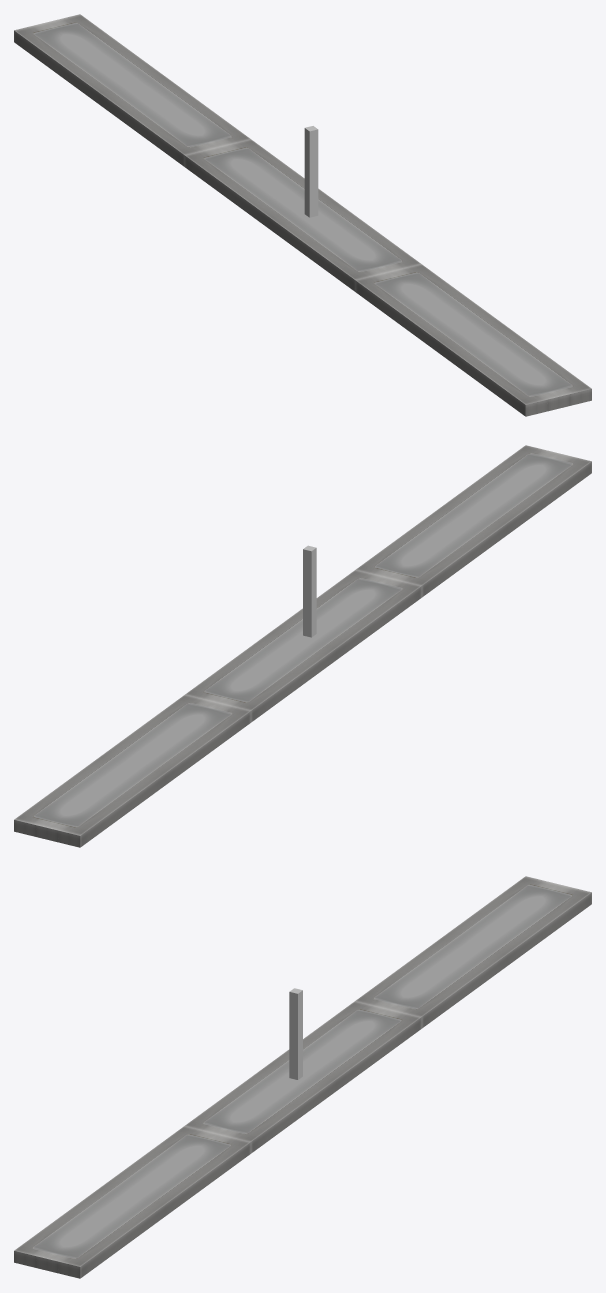
File: Subway06CeilLight01.FBX
The picture shows the model from 3 angles, top to bottom: view 1: azimuth 30°, elevation 25°; view 2: azimuth 150°, elevation 25°; view 3: azimuth 330°, elevation 25°; orthographic projection.
Parts seen in each view (by area): view 1: Subway06CeilLight01, Subway06CeillDetail01; view 2: Subway06CeilLight01, Subway06CeillDetail01; view 3: Subway06CeilLight01, Subway06CeillDetail01.
Part boxes in pixels (left/top/right/bottom): Subway06CeilLight01: left=14, top=14, right=591, bottom=416; Subway06CeillDetail01: left=304, top=126, right=318, bottom=217; Subway06CeilLight01: left=14, top=445, right=591, bottom=847; Subway06CeillDetail01: left=303, top=545, right=316, bottom=637; Subway06CeilLight01: left=14, top=876, right=591, bottom=1278; Subway06CeillDetail01: left=289, top=988, right=302, bottom=1079.
Bounding box in the file's own units: 385 × 546 × 5155.
